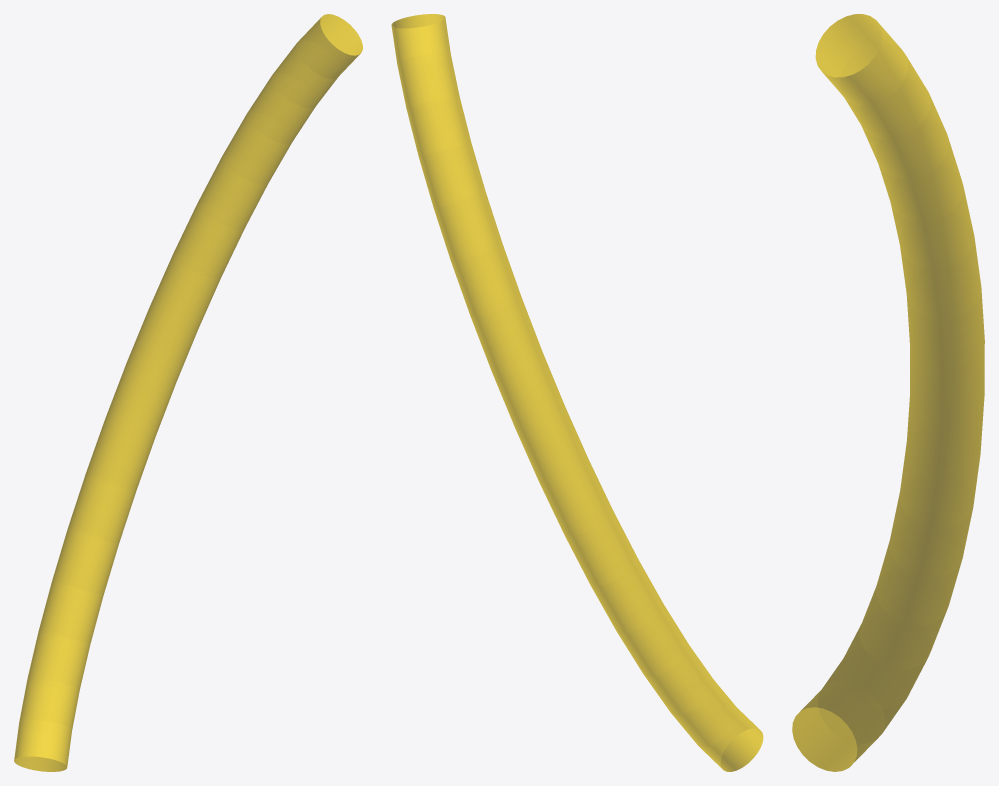
File: Event_40932208_track_34.fbx
3 views of the same model, side by side, from view 1: azimuth 30°, elevation 25°; view 2: azimuth 150°, elevation 25°; view 3: azimuth 270°, elevation 25° (orthographic). The views are drawn at different scales.
Parts seen in each view (by area): view 1: Model; view 2: Model; view 3: Model.
Boxes of the visible parts, <box> form: Model: <box>14,14,362,771</box>; Model: <box>391,14,763,771</box>; Model: <box>792,14,984,771</box>.
Bounding box in the file's own units: 0.3022 × 0.5576 × 0.1027.
